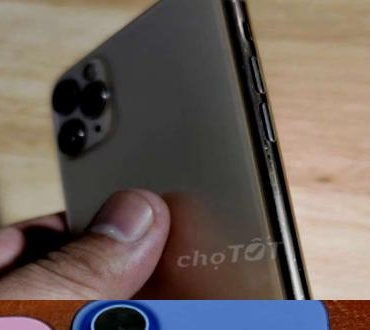scratch: (279, 285, 323, 300), (293, 251, 314, 282), (258, 139, 283, 160), (233, 62, 251, 73)
